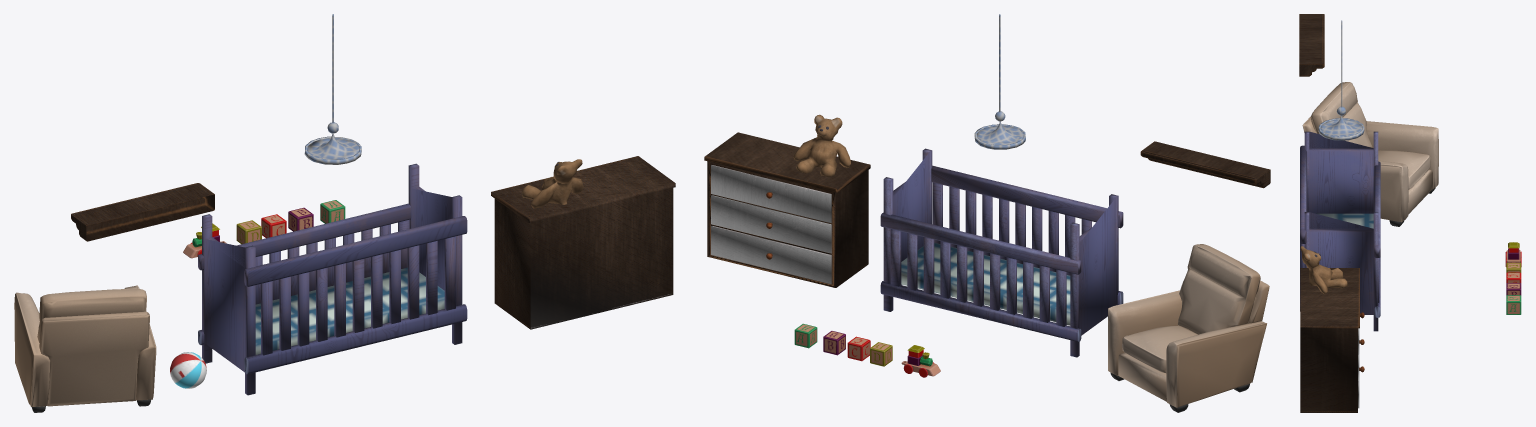
The model's file is QuartoBebe.fbx.
3 views of the same model, side by side, from view 1: azimuth 30°, elevation 25°; view 2: azimuth 150°, elevation 25°; view 3: azimuth 270°, elevation 25° (orthographic). The views are drawn at different scales.
Parts seen in each view (by area): view 1: BebeBerço, Armario, Poltrona, Estante, BebeBerço.001, Ursinho, Bola; view 2: BebeBerço, Armario, Poltrona, Estante, Ursinho, BebeBerço.001, Trem; view 3: BebeBerço, Armario, Poltrona, Estante, BebeBerço.001, Ursinho, Trem, Quadrado4.
Part boxes in pixels (<box>): BebeBerço: <box>198,163,467,395</box>; Armario: <box>491,156,675,329</box>; Poltrona: <box>14,285,156,412</box>; Estante: <box>71,183,214,241</box>; BebeBerço.001: <box>304,14,361,164</box>; Ursinho: <box>522,159,583,208</box>; Bola: <box>170,352,206,388</box>; BebeBerço: <box>880,148,1123,357</box>; Armario: <box>704,132,870,287</box>; Poltrona: <box>1108,244,1269,412</box>; Estante: <box>1140,141,1270,188</box>; Ursinho: <box>793,114,850,176</box>; BebeBerço.001: <box>974,14,1025,149</box>; Trem: <box>901,345,940,377</box>; BebeBerço: <box>1300,131,1380,331</box>; Armario: <box>1300,268,1364,412</box>; Poltrona: <box>1302,82,1438,226</box>; Estante: <box>1299,14,1324,76</box>; BebeBerço.001: <box>1318,20,1364,140</box>; Ursinho: <box>1300,246,1347,293</box>; Trem: <box>1505,242,1521,266</box>; Quadrado4: <box>1506,295,1521,314</box>.
Bounding box in the file's own units: 1124 × 592 × 442.
